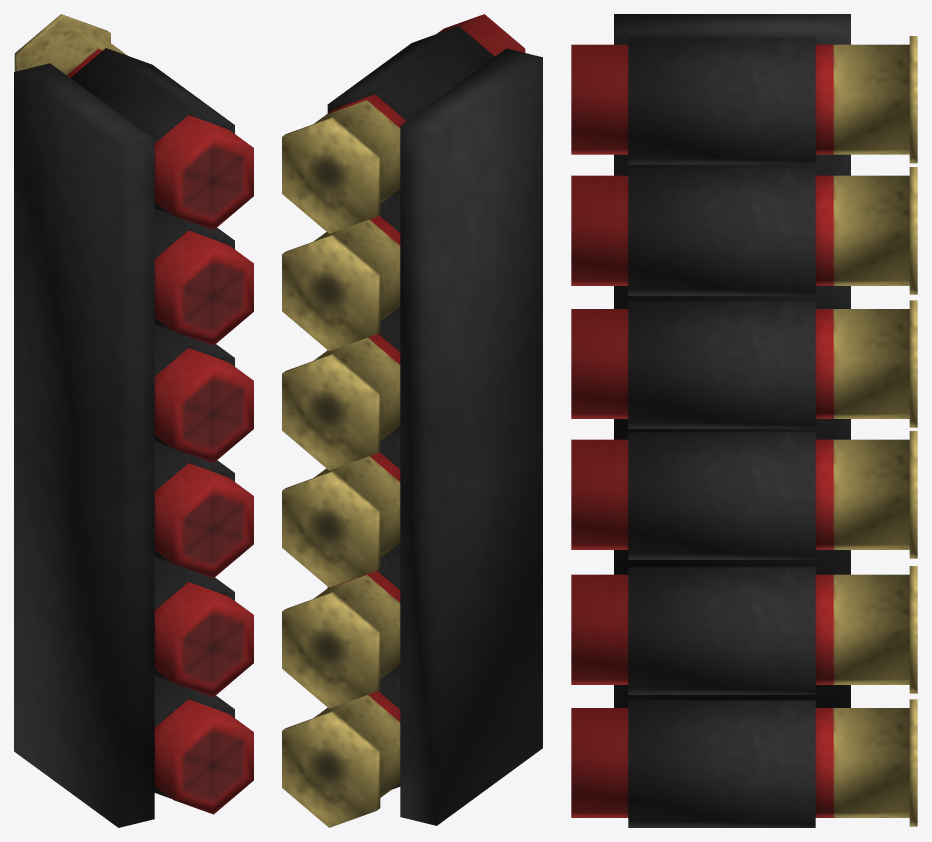
File: TLOG_ShellHolderVanila.fbx
3 renders of one model, left to right at view 1: azimuth 30°, elevation 25°; view 2: azimuth 150°, elevation 25°; view 3: azimuth 270°, elevation 25°, orthographic. The views are drawn at different scales.
Parts seen in each view (by area): view 1: Cylinder.002; view 2: Cylinder.002; view 3: Cylinder.002.
Boxes of the visible parts, left/top/right/bottom form: Cylinder.002: left=14, top=14, right=253, bottom=827; Cylinder.002: left=282, top=14, right=542, bottom=827; Cylinder.002: left=571, top=14, right=917, bottom=827.
Size of the model in its own units: 0.0138 by 0.075 by 0.0297.
